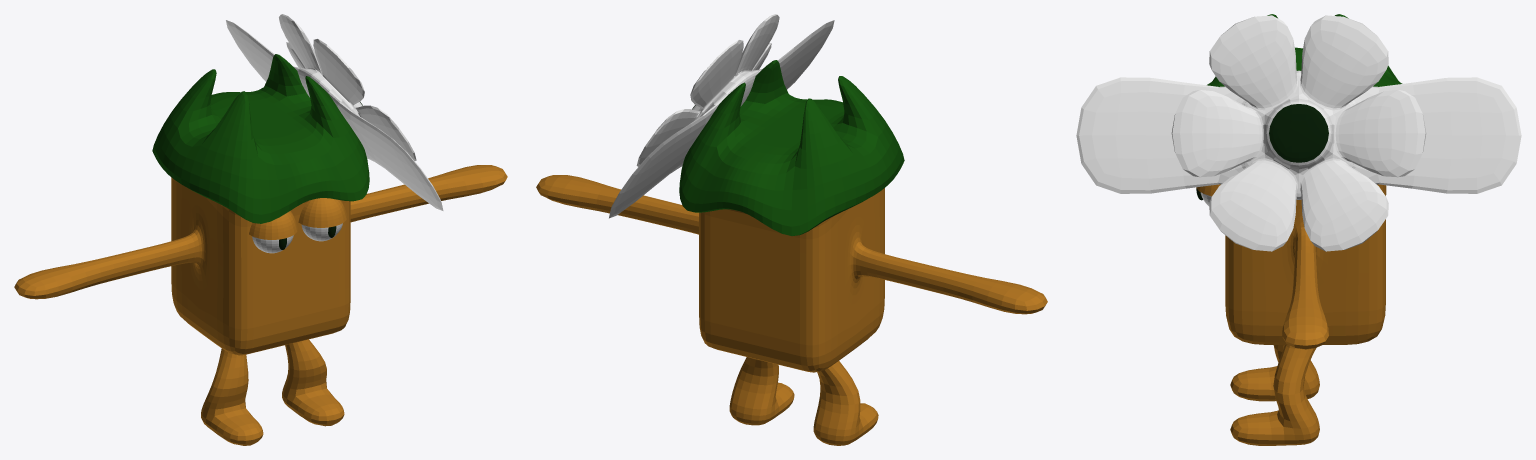
Rendered from Blocker.fbx.
3 views of the same model, side by side, from view 1: azimuth 30°, elevation 25°; view 2: azimuth 150°, elevation 25°; view 3: azimuth 270°, elevation 25° (orthographic). The views are drawn at different scales.
Visible parts, largest first — view 1: Cube, Sphere.006, Sphere.001, Sphere.002; view 2: Cube, Sphere.006; view 3: Sphere.006, Cube.
Part boxes in pixels (<box>): Cube: <box>14,54,507,445</box>; Sphere.006: <box>226,14,443,210</box>; Sphere.001: <box>298,198,347,227</box>; Sphere.002: <box>249,211,297,239</box>; Cube: <box>536,60,1047,445</box>; Sphere.006: <box>609,14,834,218</box>; Sphere.006: <box>1076,15,1521,251</box>; Cube: <box>1207,14,1402,445</box>.
Bounding box in the file's own units: 792 × 586 × 554.
